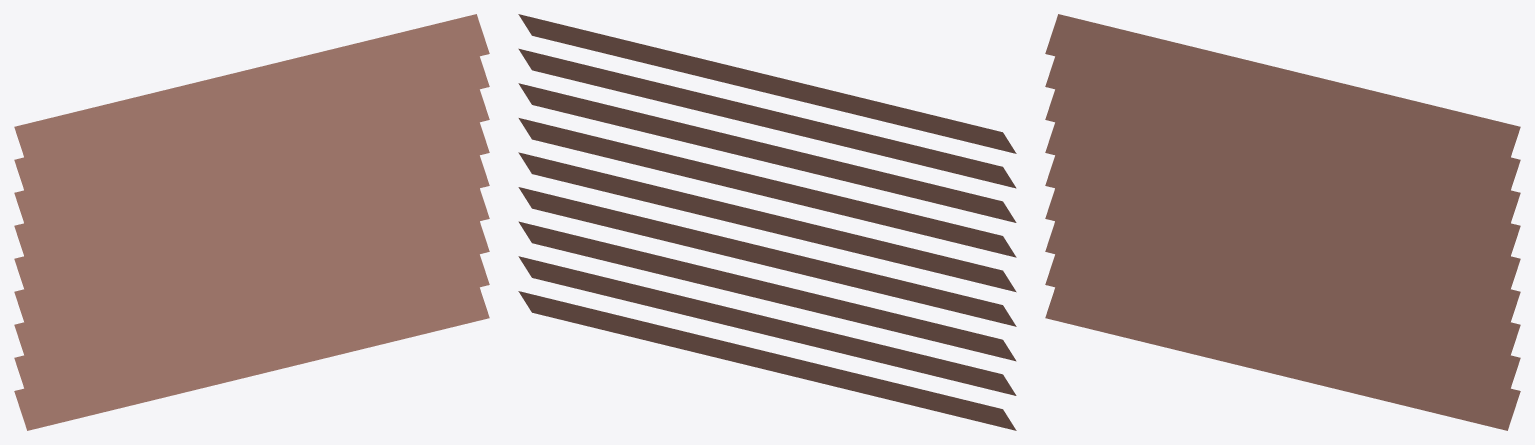
File: Curtains_027.glb
The picture shows the model from 3 angles, left to right: view 1: azimuth 30°, elevation 25°; view 2: azimuth 150°, elevation 25°; view 3: azimuth 330°, elevation 25°; orthographic projection. The views are drawn at different scales.
Parts seen in each view (by area): view 1: Curtains_027; view 2: Curtains_027; view 3: Curtains_027.
Part boxes in pixels (box(x1,y1,x2,y2)): Curtains_027: box(14, 14, 489, 430); Curtains_027: box(518, 14, 1016, 430); Curtains_027: box(1045, 14, 1520, 430).
Size of the model in its own units: 1.53 by 0.9326 by 0.0752.
Materials: 1 (1 with a texture image).
